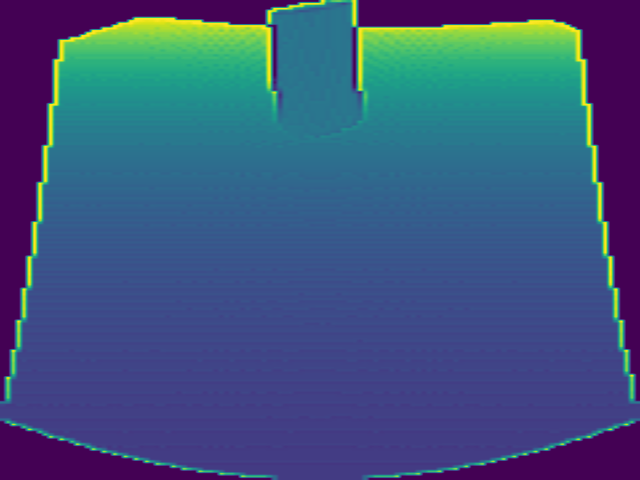cylinder: (262, 1, 366, 140)
